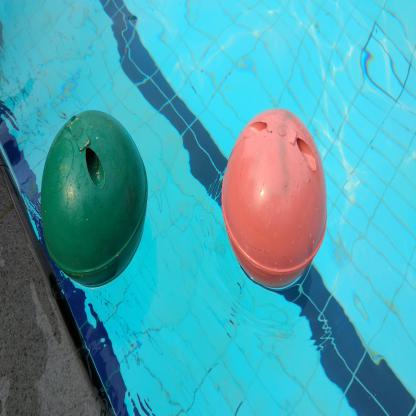green_buoy: (38, 104, 153, 304)
red_buoy: (216, 98, 334, 305)
